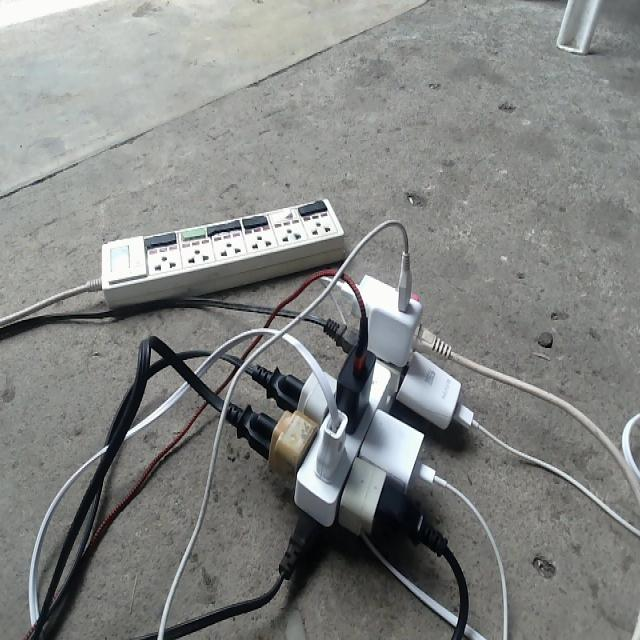-: (256, 251, 462, 558)
